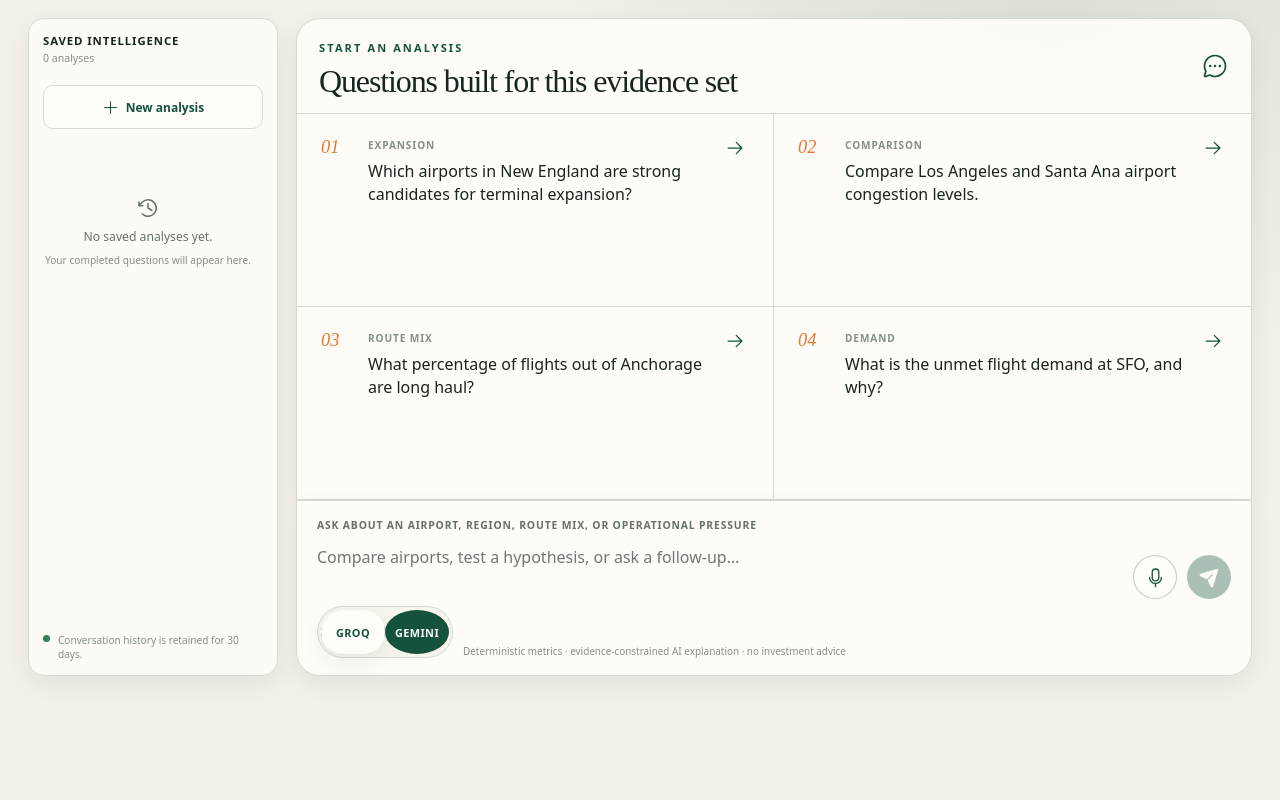
client voice dictation › explains when the mic is stopped with no speech captured
Click the button named "Dictate question" at point(1155, 577), box [1133,555,1177,599]
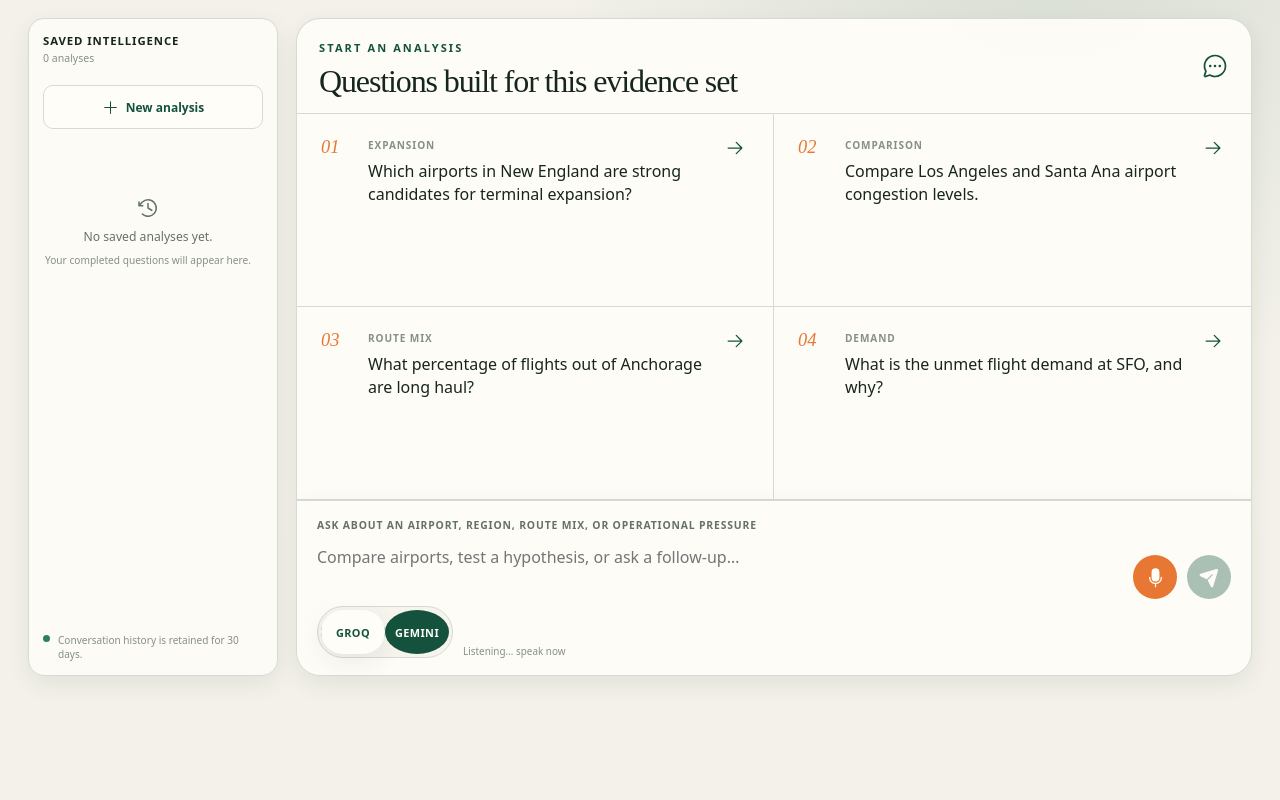
Now the button named "Dictate question" is pressed
Click the button named "Dictate question" at point(1155, 577), box [1133,555,1177,599]
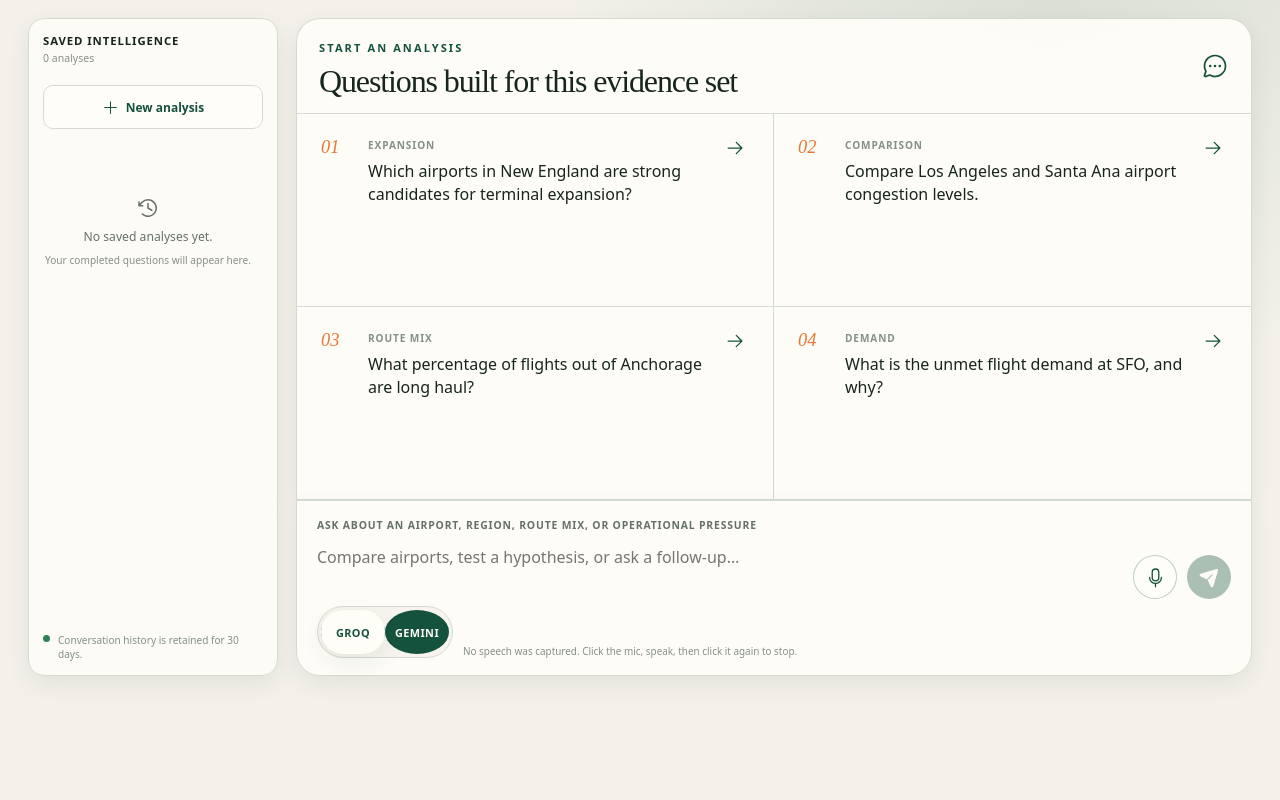
Now the text "No speech was captured. Click the mic, speak, then click it again to stop." is shown, box [463,644,797,658]
